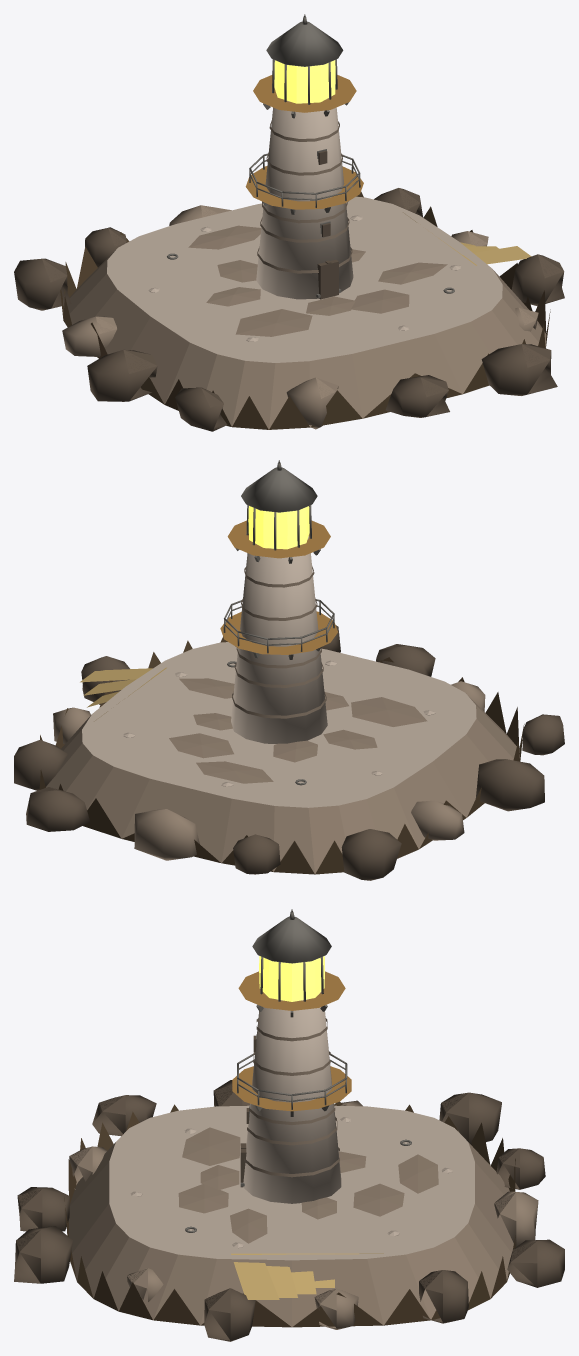
The model's file is LighthouseTower.fbx.
3 views of the same model, one above another, from view 1: azimuth 30°, elevation 25°; view 2: azimuth 150°, elevation 25°; view 3: azimuth 270°, elevation 25° (orthographic). The views are drawn at different scales.
Visible parts, largest first — view 1: LighthouseTower; view 2: LighthouseTower; view 3: LighthouseTower.
Part boxes in pixels (bbox=[...]): LighthouseTower: bbox=[14, 14, 564, 431]; LighthouseTower: bbox=[14, 460, 564, 880]; LighthouseTower: bbox=[14, 909, 564, 1341].
Bounding box in the file's own units: 1807 × 1204 × 1799.
